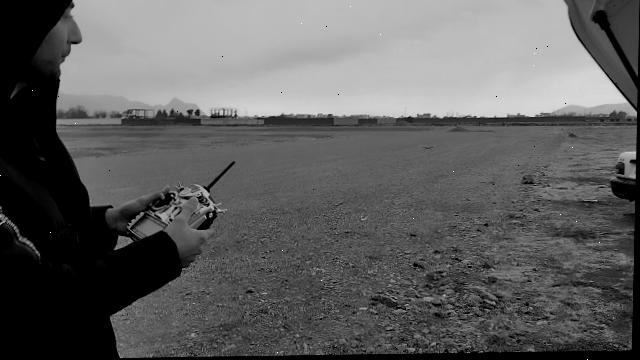drone: (419, 144, 437, 156)
